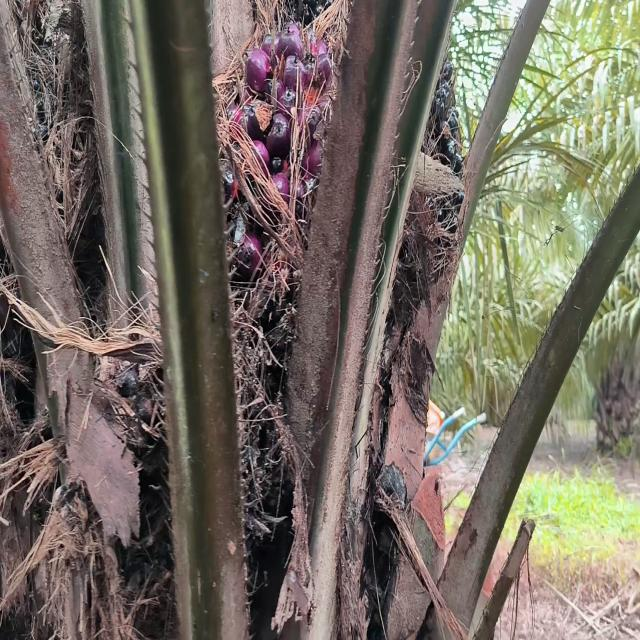palm-oil: (214, 11, 365, 333)
